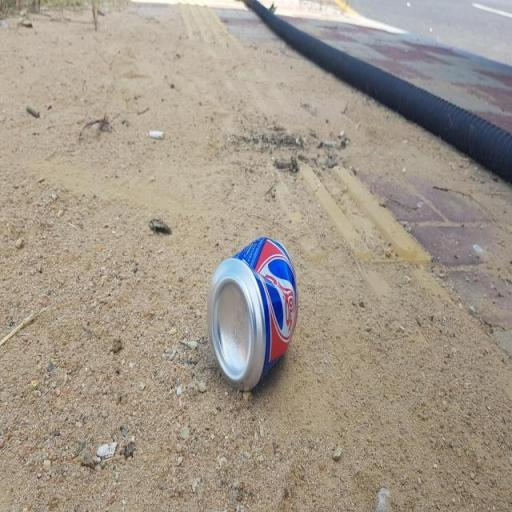metal: (194, 218, 305, 394)
